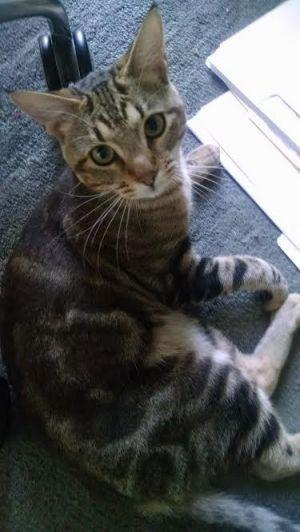bengal: (3, 1, 207, 209)
